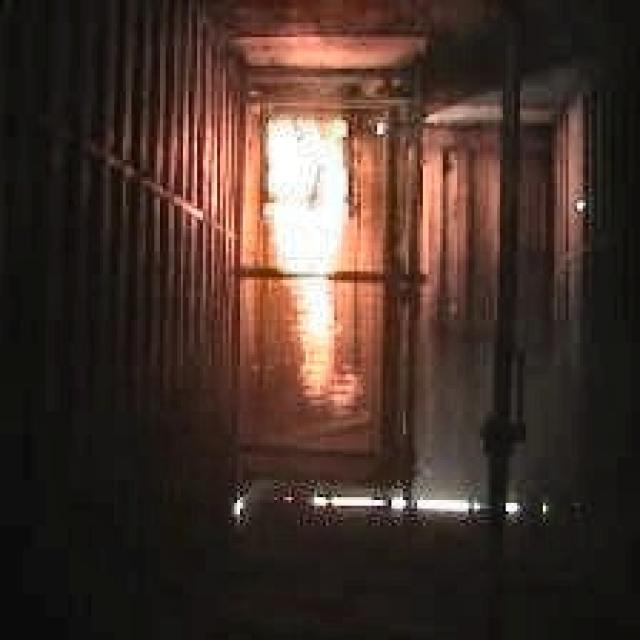fire: (240, 107, 371, 433)
